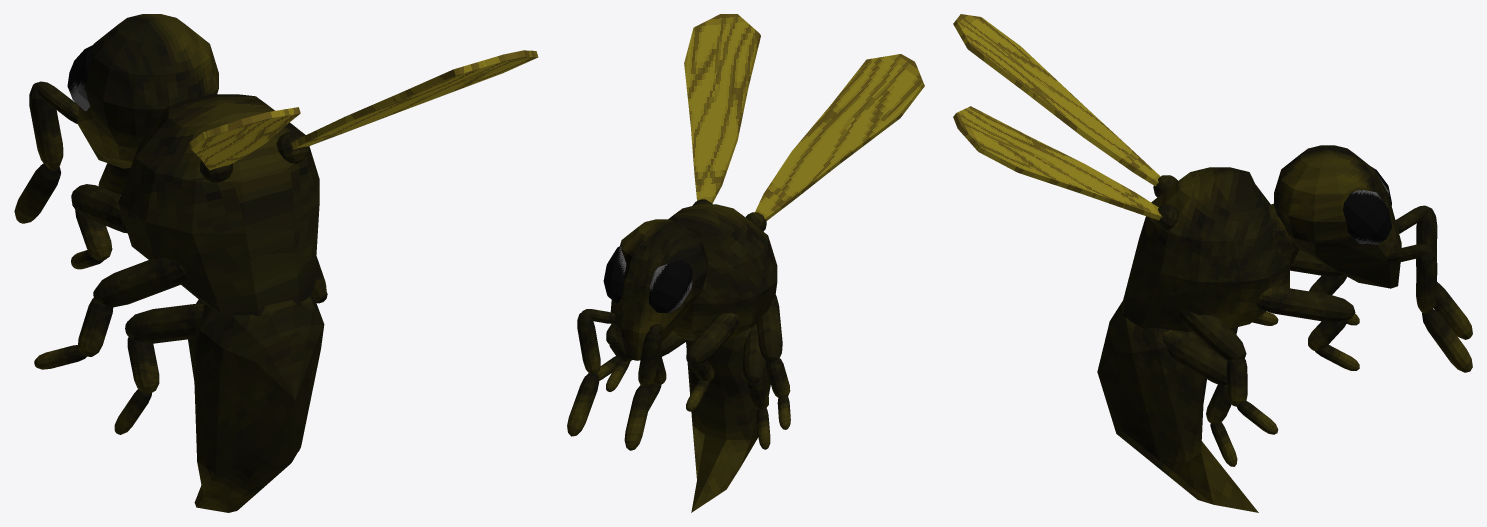
File: TiphiaFlying.obj
The picture shows the model from 3 angles, left to right: view 1: azimuth 30°, elevation 25°; view 2: azimuth 150°, elevation 25°; view 3: azimuth 270°, elevation 25°; orthographic projection. The views are drawn at different scales.
Visible parts, largest first — view 1: sphere, cylinder, Wing, WingLimb; view 2: sphere, Wing, cylinder; view 3: sphere, cylinder, Wing, WingLimb.
Part boxes in pixels (<box>): sphere: <box>67,14,324,512</box>; cylinder: <box>14,81,327,434</box>; Wing: <box>189,50,538,170</box>; WingLimb: <box>199,131,308,182</box>; sphere: <box>603,204,777,512</box>; Wing: <box>684,14,924,220</box>; cylinder: <box>567,276,790,450</box>; sphere: <box>1097,145,1401,512</box>; cylinder: <box>1162,203,1472,466</box>; Wing: <box>953,14,1161,220</box>; WingLimb: <box>1153,175,1179,230</box>.
Size of the model in its own units: 0.7175 by 1.14 by 1.2.
Materials: 1 (1 with a texture image).
